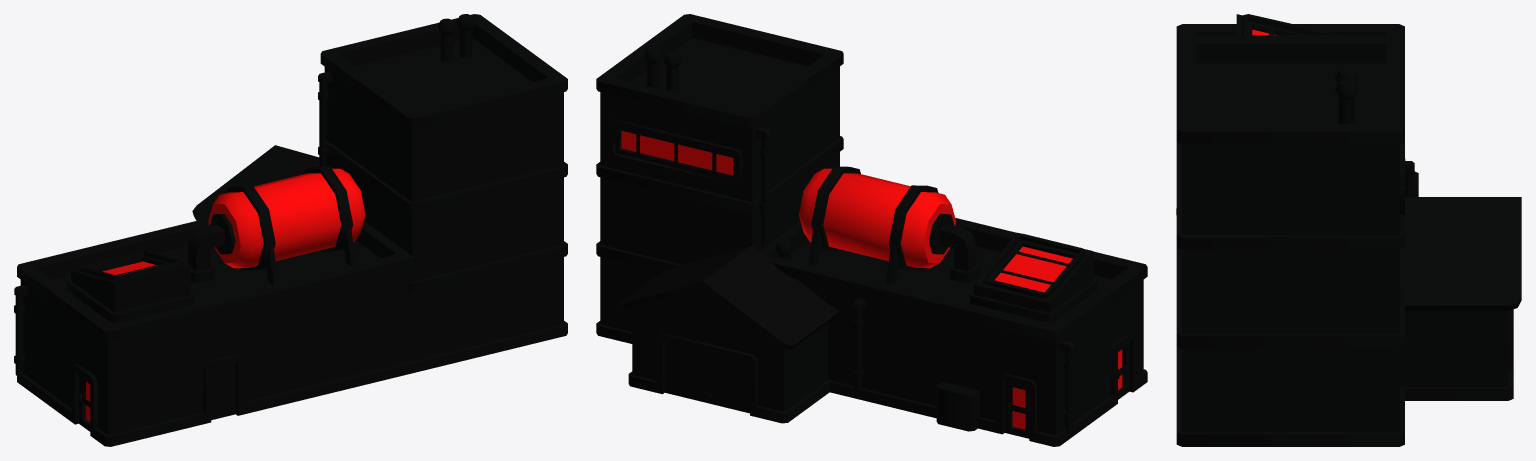
File: building-r.glb
3 views of the same model, side by side, from view 1: azimuth 30°, elevation 25°; view 2: azimuth 150°, elevation 25°; view 3: azimuth 270°, elevation 25° (orthographic). The views are drawn at different scales.
Parts seen in each view (by area): view 1: building-r; view 2: building-r; view 3: building-r.
Part boxes in pixels (<box>): building-r: <box>14,14,567,446</box>; building-r: <box>596,14,1147,446</box>; building-r: <box>1176,14,1521,446</box>.
Size of the model in its own units: 2.48 by 1.39 by 1.27.
Materials: 1 (1 with a texture image).
